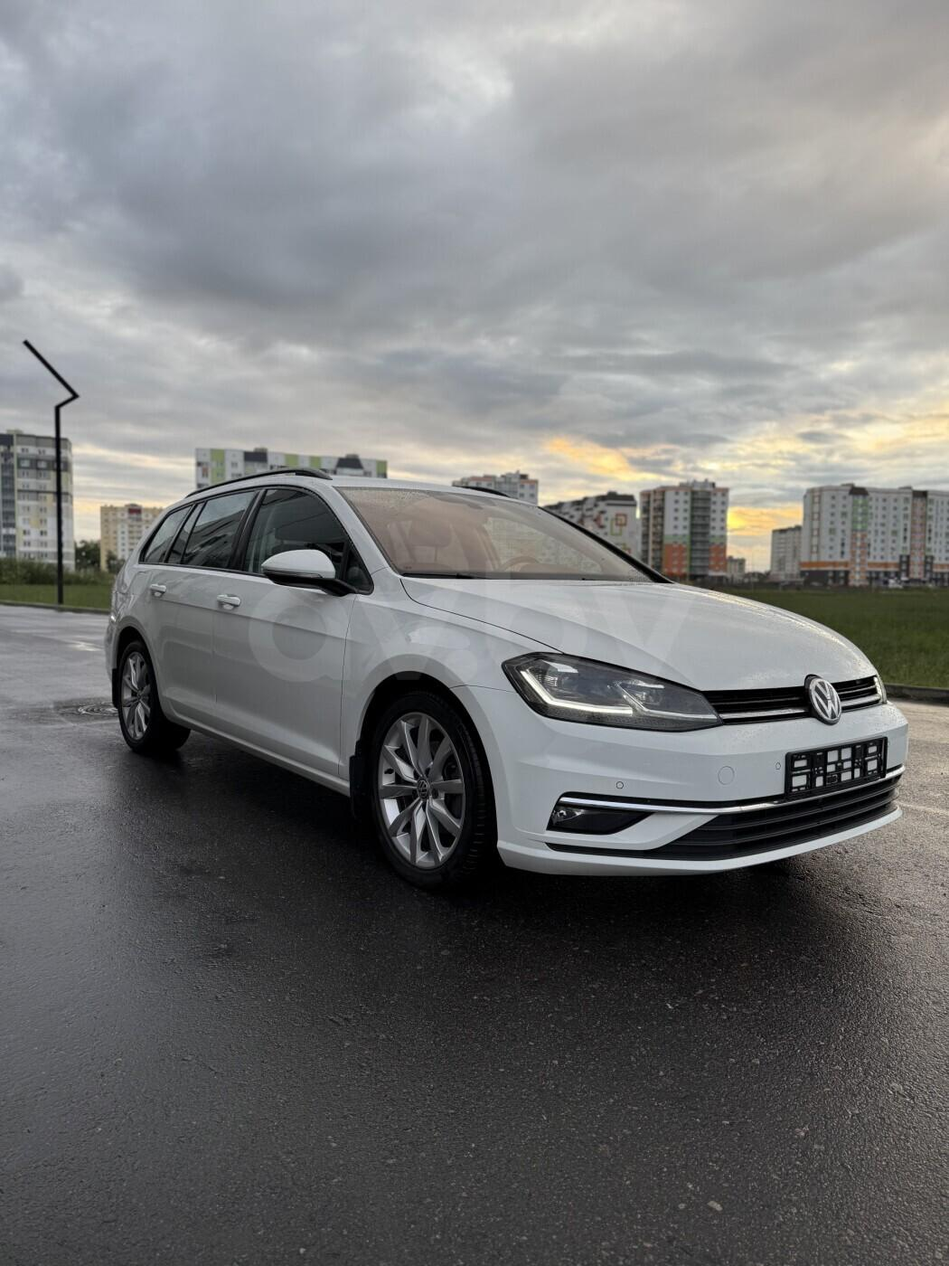Golf_2017-2021: (88, 477, 912, 899)
